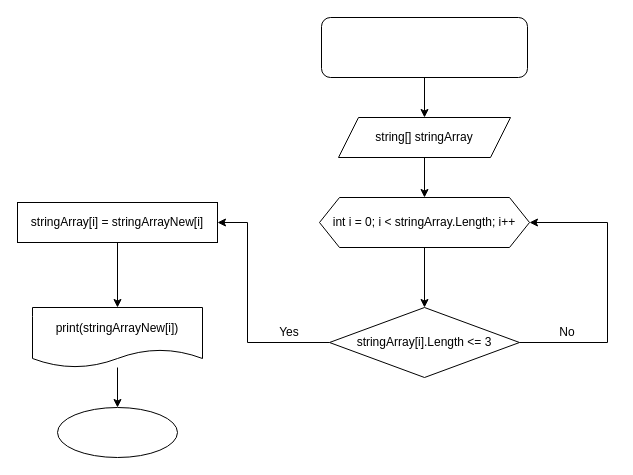
Some shapes in this 633 by 475 pixel diagram are drawn without their labels. The box of each missing label's shape, as (x1, y1, x2, y2) in pixels:
End: (56, 406, 178, 458)
Введите число строк массива: Введите данные строк:: (320, 16, 528, 78)
